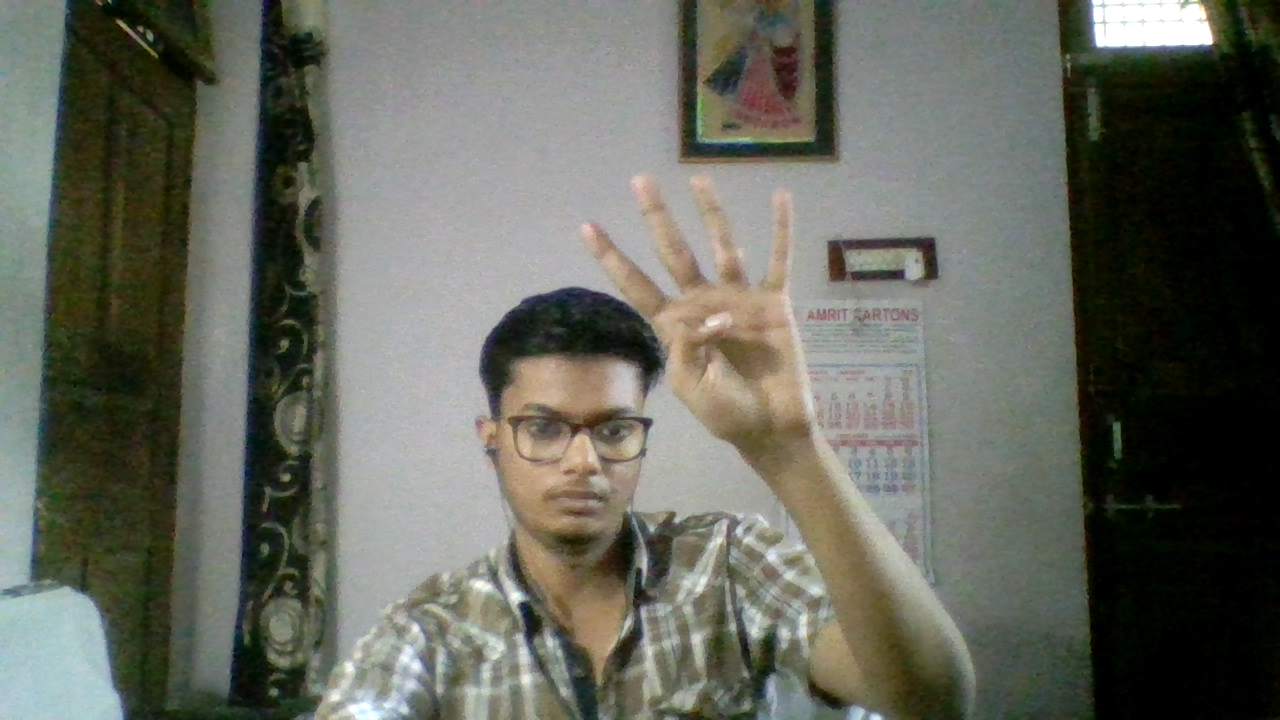four: (569, 161, 846, 475)
